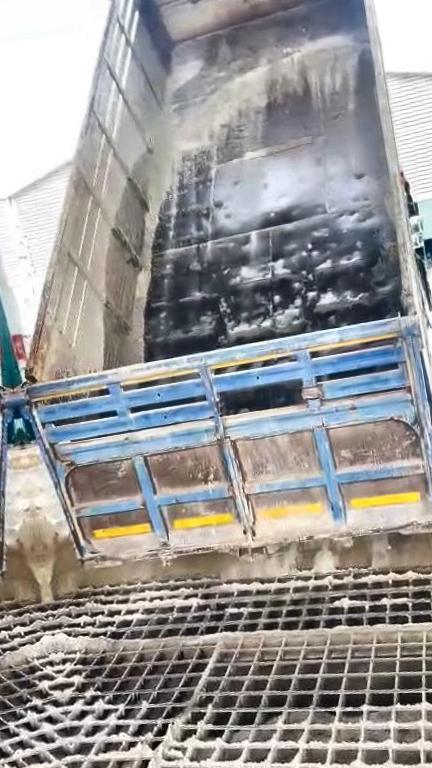sand: (121, 35, 362, 359), (25, 447, 432, 600), (54, 606, 432, 658), (114, 686, 199, 768)
